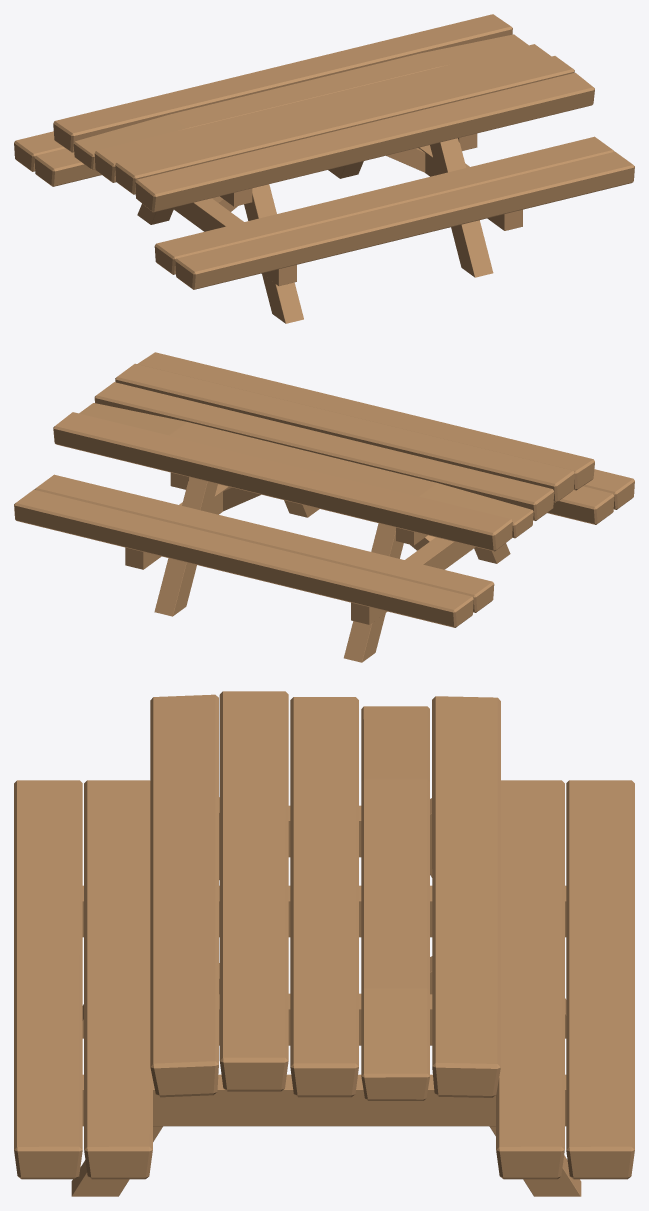
Rendered from Mesa_Picnic_Low_Poly.fbx.
3 views of the same model, one above another, from view 1: azimuth 30°, elevation 25°; view 2: azimuth 150°, elevation 25°; view 3: azimuth 270°, elevation 25° (orthographic). The views are drawn at different scales.
Parts seen in each view (by area): view 1: pCube5, pCube17, pCube1, pCube4, pCube16, pCube2, pCube3, pCube14, pCube15, pCube8, pCube20, pCube19 (+3 smaller); view 2: pCube1, pCube19, pCube4, pCube3, pCube20, pCube2, pCube5, pCube13, pCube15, pCube16, pCube10, pCube17 (+3 smaller); view 3: pCube4, pCube1, pCube5, pCube3, pCube19, pCube17, pCube2, pCube16, pCube20, pCube18, pCube13, pCube14 (+1 smaller).
Part boxes in pixels (x1,y1,x2,y2): pCube5: (135,72,594,212); pCube17: (175,151,634,289); pCube1: (53,14,512,152); pCube4: (115,56,574,194); pCube16: (154,136,614,274); pCube2: (73,34,528,169); pCube3: (94,44,551,182); pCube14: (430,138,493,277); pCube15: (172,198,296,285); pCube8: (244,184,303,323); pCube20: (34,148,101,186); pCube19: (14,131,64,171); pCube1: (53,412,512,551); pCube19: (14,489,473,627); pCube4: (115,363,574,502); pCube3: (94,382,554,520); pCube20: (34,474,494,612); pCube2: (79,403,533,538); pCube5: (137,352,594,490); pCube13: (154,477,217,616); pCube15: (351,537,475,624); pCube16: (547,486,614,524); pCube10: (344,523,402,662); pCube17: (583,469,634,509); pCube4: (219,691,288,1091); pCube1: (432,696,500,1097); pCube5: (150,694,218,1097); pCube3: (290,697,358,1097); pCube19: (566,780,634,1179); pCube17: (14,780,82,1179); pCube2: (361,706,429,1100); pCube16: (84,780,152,1179); pCube20: (496,780,564,1179); pCube18: (82,1074,566,1126); pCube13: (430,956,581,1196); pCube14: (71,963,219,1196).
Size of the model in its own units: 12.29 by 3.77 by 8.73.
